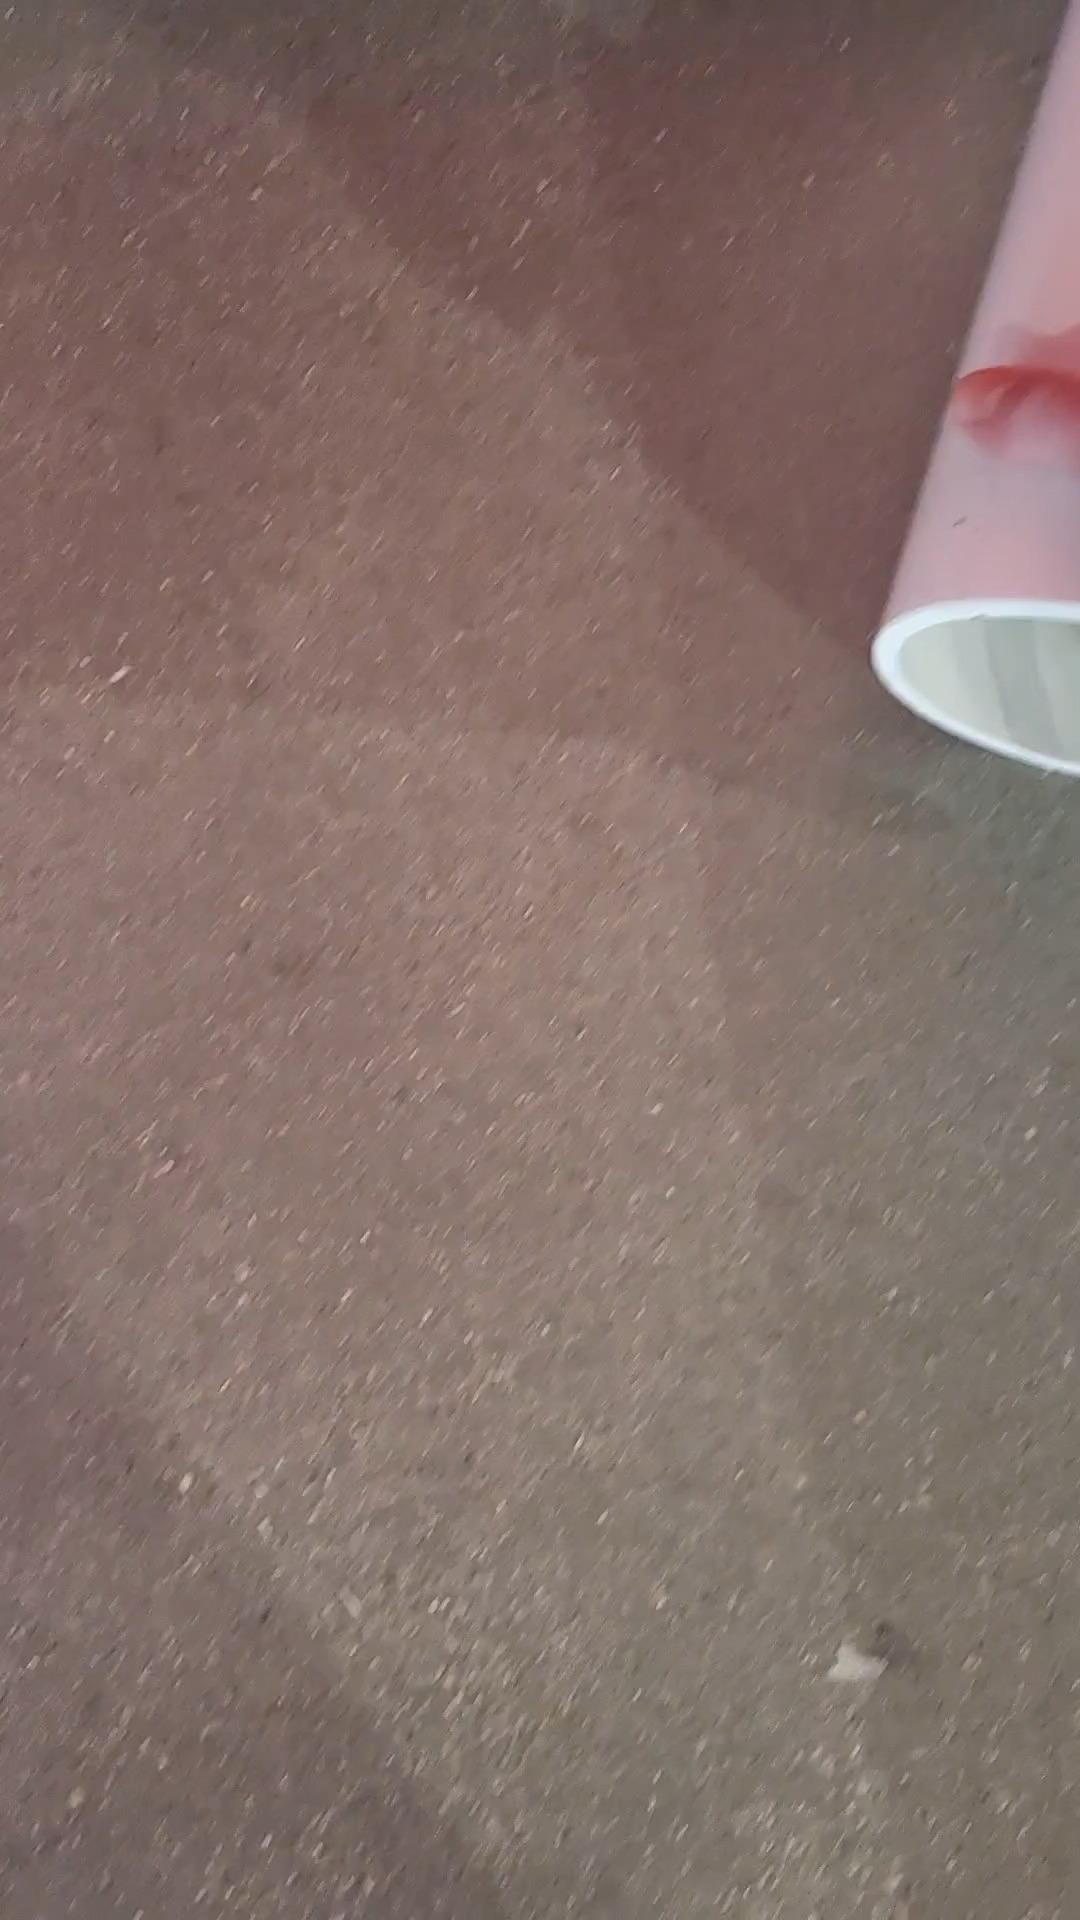coral: (831, 0, 1080, 884)
